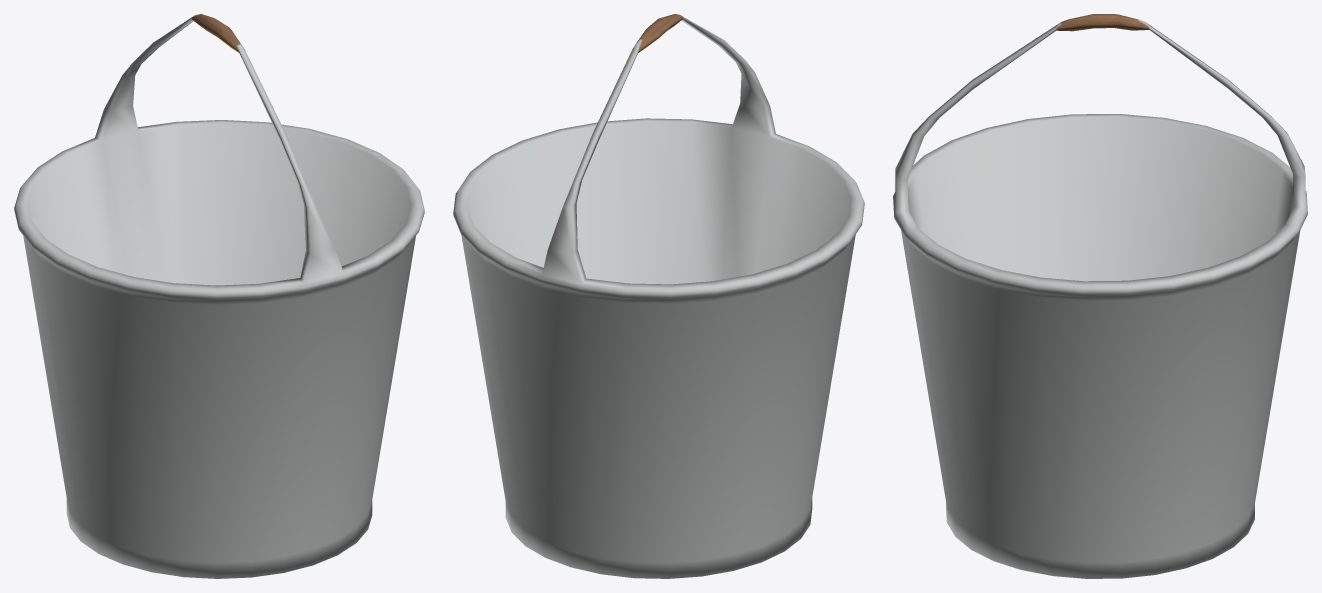
The model's file is obj_simple_bucket_a34e04.glb.
The picture shows the model from 3 angles, left to right: view 1: azimuth 30°, elevation 25°; view 2: azimuth 150°, elevation 25°; view 3: azimuth 270°, elevation 25°; orthographic projection.
Visible parts, largest first — view 1: obj_simple_bucket_a34e04; view 2: obj_simple_bucket_a34e04; view 3: obj_simple_bucket_a34e04.
Boxes of the visible parts, x1,y1,x2,y2 form: obj_simple_bucket_a34e04: (14,14,424,578); obj_simple_bucket_a34e04: (453,14,864,578); obj_simple_bucket_a34e04: (893,14,1307,578).
Bounding box in the file's own units: 0.3395 × 0.45 × 0.3395.
Materials: 1 (1 with a texture image).
